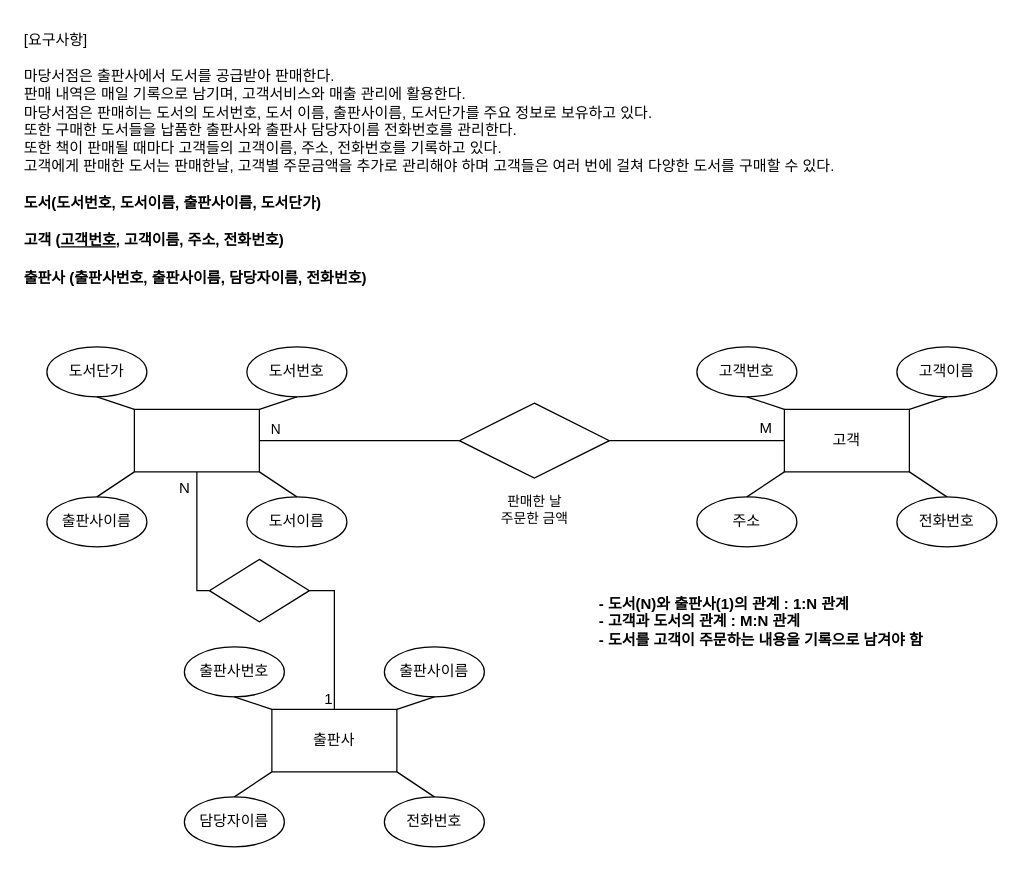
This 1019x869 diagram has some shape labels left out. The centre of each missing label's shape, as x and y in pixels:
"납품" goes at pixel 258 590.
"도서" goes at pixel 196 440.
"주문" goes at pixel 533 440.
